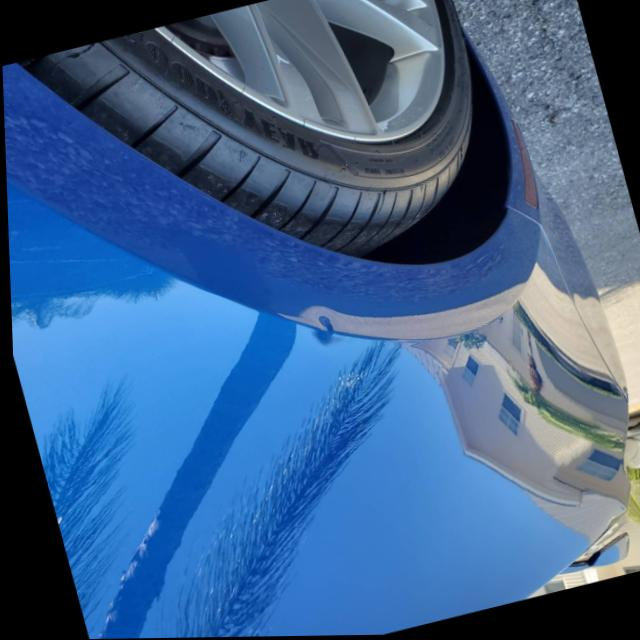Dent: (272, 292, 373, 369)
